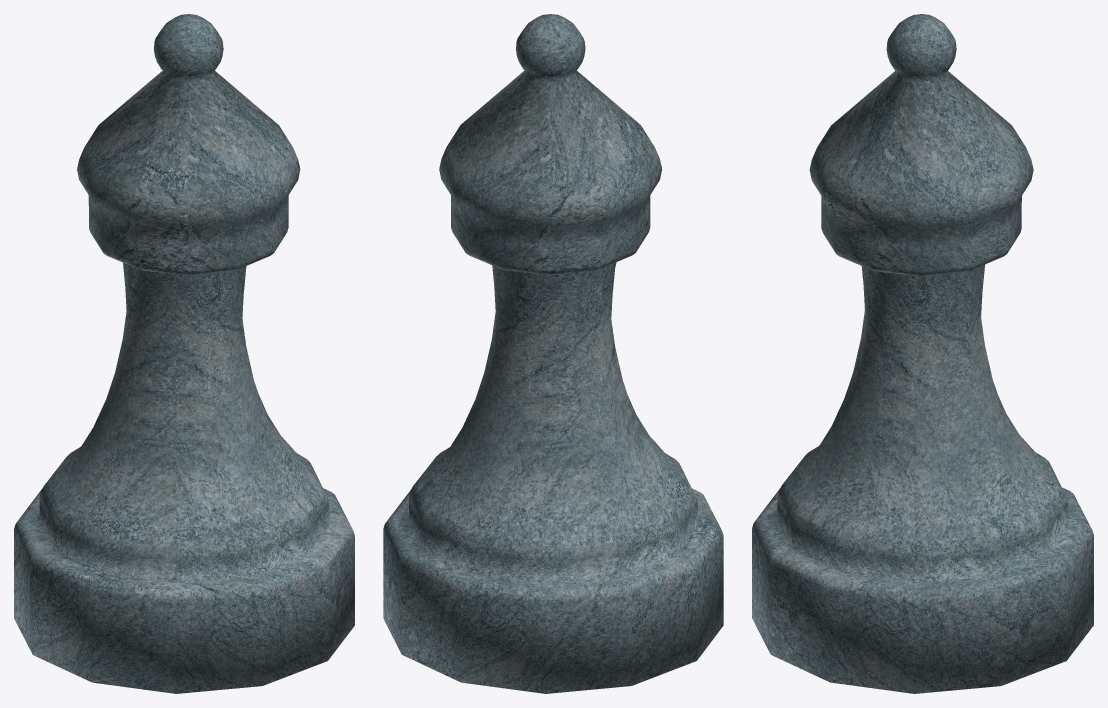
The model's file is AlfilBlanco.glb.
The picture shows the model from 3 angles, left to right: view 1: azimuth 30°, elevation 25°; view 2: azimuth 150°, elevation 25°; view 3: azimuth 270°, elevation 25°; orthographic projection.
Parts seen in each view (by area): view 1: Alfil; view 2: Alfil; view 3: Alfil.
Boxes of the visible parts, box(x1,y1,x2,y2) form: Alfil: box(14, 14, 354, 693); Alfil: box(383, 14, 723, 693); Alfil: box(752, 14, 1093, 693).
Bounding box in the file's own units: 0.7033 × 1.38 × 0.7033.
Materials: 1 (1 with a texture image).
